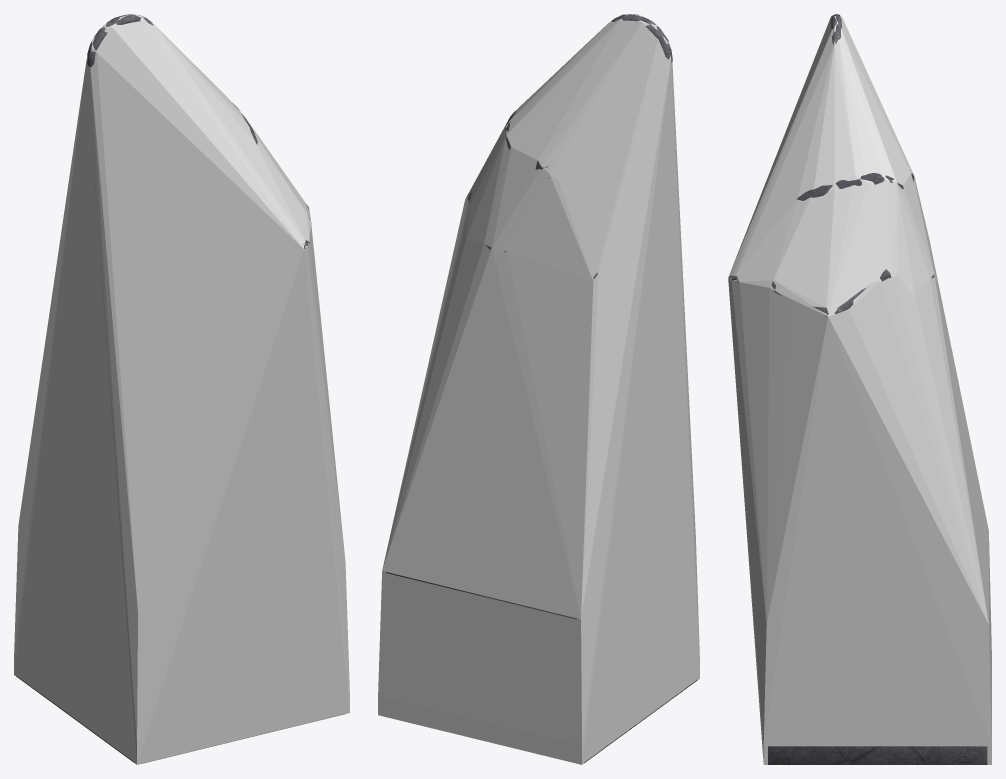
Rendered from statue_mage.webp.glb.
The picture shows the model from 3 angles, left to right: view 1: azimuth 30°, elevation 25°; view 2: azimuth 150°, elevation 25°; view 3: azimuth 270°, elevation 25°; orthographic projection. The views are drawn at different scales.
Visible parts, largest first — view 1: COL, statue_mage_lod0; view 2: COL, statue_mage_lod0; view 3: COL, statue_mage_lod0, FRAC_4.
Boxes of the visible parts, <box> form: COL: <box>14,14,349,764</box>; statue_mage_lod0: <box>16,14,344,763</box>; COL: <box>378,14,699,764</box>; statue_mage_lod0: <box>386,14,697,762</box>; COL: <box>728,14,991,764</box>; statue_mage_lod0: <box>730,14,987,764</box>; FRAC_4: <box>728,173,913,284</box>.
Bounding box in the file's own units: 1.64 × 5 × 1.8.
1 material, 1 textured.
